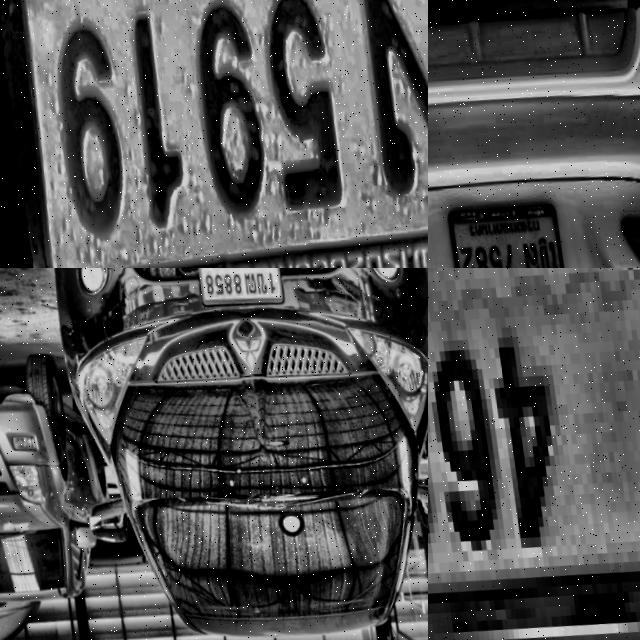license-plate: (0, 0, 428, 268), (428, 268, 640, 640), (439, 189, 565, 268), (188, 268, 285, 312)
